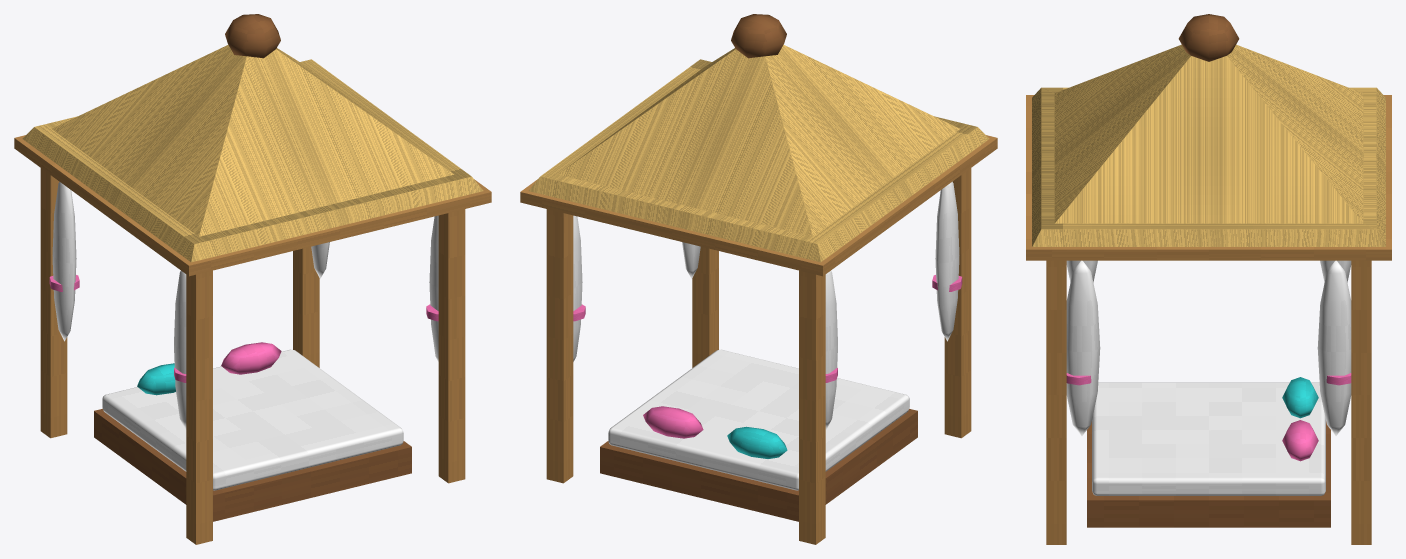
The model's file is p_ai_cabana.glb.
3 views of the same model, side by side, from view 1: azimuth 30°, elevation 25°; view 2: azimuth 150°, elevation 25°; view 3: azimuth 270°, elevation 25° (orthographic). The views are drawn at different scales.
Parts seen in each view (by area): view 1: p_ai_cabana_lod0; view 2: p_ai_cabana_lod0; view 3: p_ai_cabana_lod0.
Part boxes in pixels (bbox=[...]): p_ai_cabana_lod0: bbox=[14, 14, 491, 544]; p_ai_cabana_lod0: bbox=[520, 14, 997, 544]; p_ai_cabana_lod0: bbox=[1026, 14, 1391, 544].
Size of what is drawn, in the model's own units: 3.6 by 4.99 by 3.6.
1 material, 1 textured.
